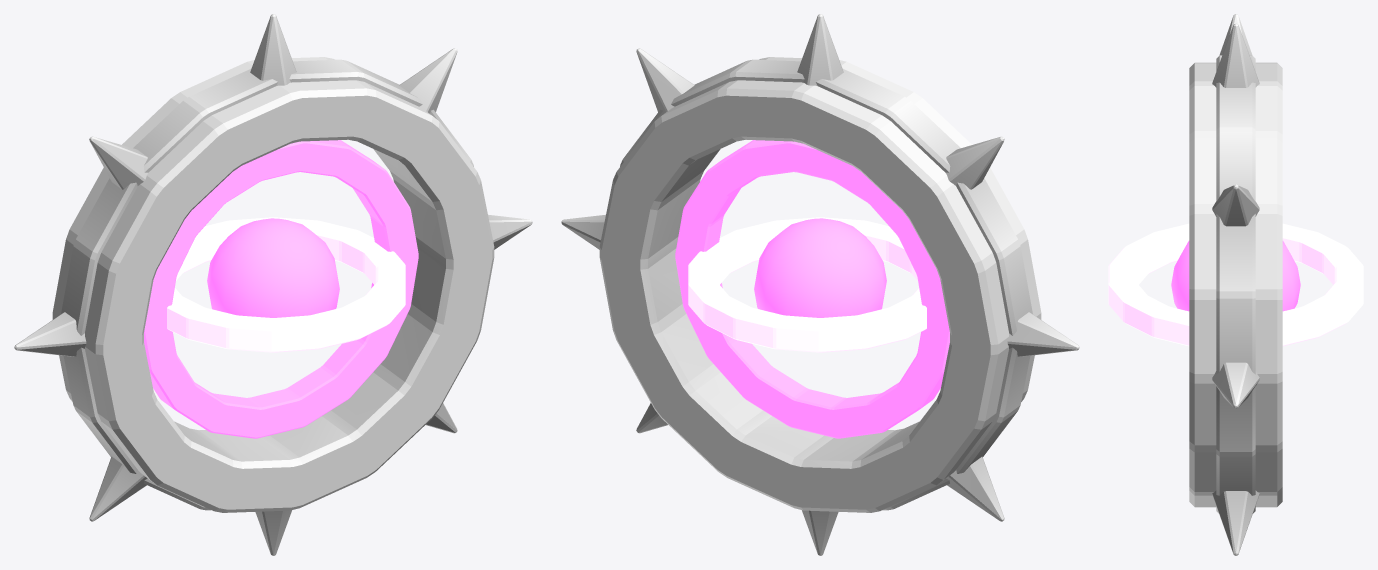
Rendered from e3_grav_ram.glb.
3 views of the same model, side by side, from view 1: azimuth 30°, elevation 25°; view 2: azimuth 150°, elevation 25°; view 3: azimuth 270°, elevation 25° (orthographic). The views are drawn at different scales.
Parts seen in each view (by area): view 1: OuterShellY, GyroRingA, GyroRingB, OuterShellTrim, GravCore, Spike_4, Spike_2, Spike_3, Spike_5, Spike_1, Spike_6, Spike_0; view 2: OuterShellY, GyroRingA, GyroRingB, OuterShellTrim, GravCore, Spike_4, Spike_2, Spike_3, Spike_5, Spike_1, Spike_6, Spike_0; view 3: OuterShellY, OuterShellTrim, GyroRingB, GravCore, Spike_2, Spike_7, Spike_0, Spike_1, Spike_3.
Boxes of the visible parts, left/top/right/bottom form: OuterShellY: left=52, top=57, right=494, bottom=512; GyroRingA: left=144, top=140, right=418, bottom=438; GyroRingB: left=167, top=217, right=405, bottom=352; OuterShellTrim: left=61, top=59, right=473, bottom=510; GravCore: left=207, top=218, right=339, bottom=317; Spike_4: left=14, top=312, right=86, bottom=356; Spike_2: left=250, top=14, right=296, bottom=85; Spike_3: left=89, top=136, right=147, bottom=189; Spike_5: left=89, top=456, right=147, bottom=521; Spike_1: left=399, top=48, right=457, bottom=113; Spike_6: left=255, top=510, right=291, bottom=555; Spike_0: left=488, top=214, right=532, bottom=249; OuterShellY: left=599, top=57, right=1041, bottom=512; GyroRingA: left=675, top=140, right=949, bottom=438; GyroRingB: left=688, top=217, right=926, bottom=352; OuterShellTrim: left=620, top=59, right=1032, bottom=510; GravCore: left=754, top=218, right=886, bottom=317; Spike_4: left=1007, top=312, right=1079, bottom=356; Spike_2: left=797, top=14, right=843, bottom=85; Spike_3: left=946, top=136, right=1004, bottom=189; Spike_5: left=946, top=456, right=1004, bottom=521; Spike_1: left=636, top=48, right=694, bottom=113; Spike_6: left=802, top=510, right=838, bottom=555; Spike_0: left=561, top=214, right=605, bottom=249; OuterShellY: left=1189, top=62, right=1282, bottom=507; OuterShellTrim: left=1216, top=55, right=1255, bottom=513; GyroRingB: left=1108, top=223, right=1363, bottom=346; GravCore: left=1171, top=241, right=1300, bottom=311; Spike_2: left=1212, top=23, right=1259, bottom=87; Spike_7: left=1212, top=490, right=1259, bottom=555; Spike_0: left=1212, top=362, right=1259, bottom=408; Spike_1: left=1212, top=184, right=1259, bottom=226; Spike_3: left=1219, top=14, right=1252, bottom=55.
Size of the model in its own units: 2.5 by 2.5 by 1.11.
